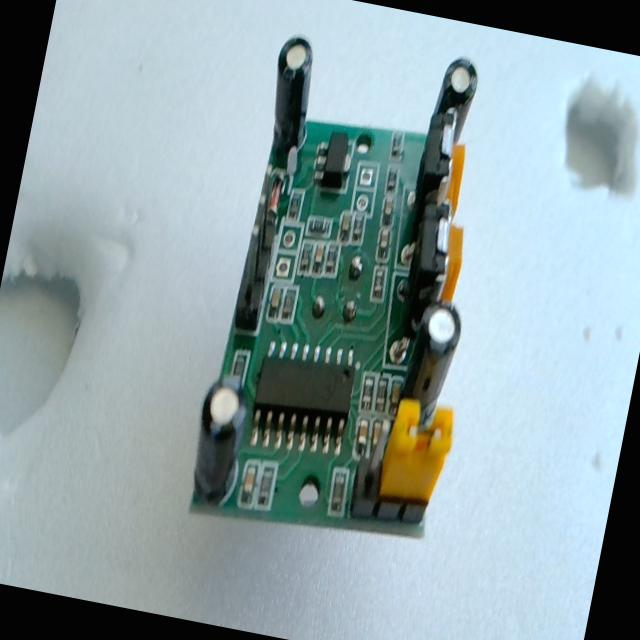Electrolytic capacitor: (184, 373, 254, 507), (414, 56, 486, 185), (399, 298, 467, 428), (260, 33, 326, 161)
IC: (246, 350, 355, 452)
pinheader: (224, 180, 288, 331)
